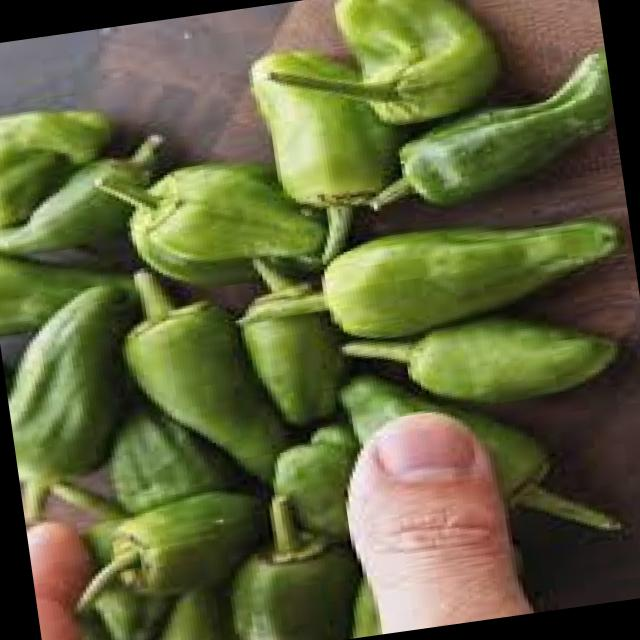hot pepper: (221, 192, 640, 380), (344, 352, 617, 566), (341, 42, 626, 234), (229, 28, 429, 272), (317, 283, 640, 430), (85, 136, 352, 306), (234, 0, 518, 152), (103, 253, 280, 490), (37, 476, 271, 638), (0, 268, 147, 517), (0, 128, 173, 271), (205, 506, 364, 640), (240, 417, 376, 560), (84, 402, 220, 534), (0, 97, 126, 238), (94, 578, 227, 640)
